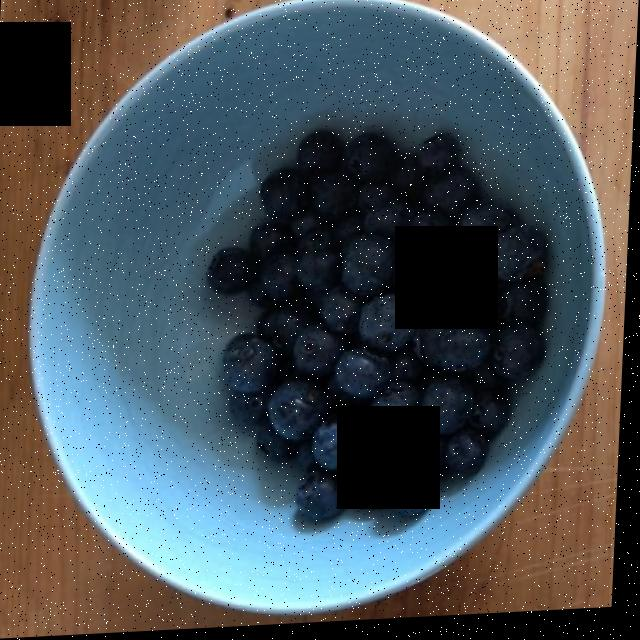blueberries: (217, 139, 545, 526)
